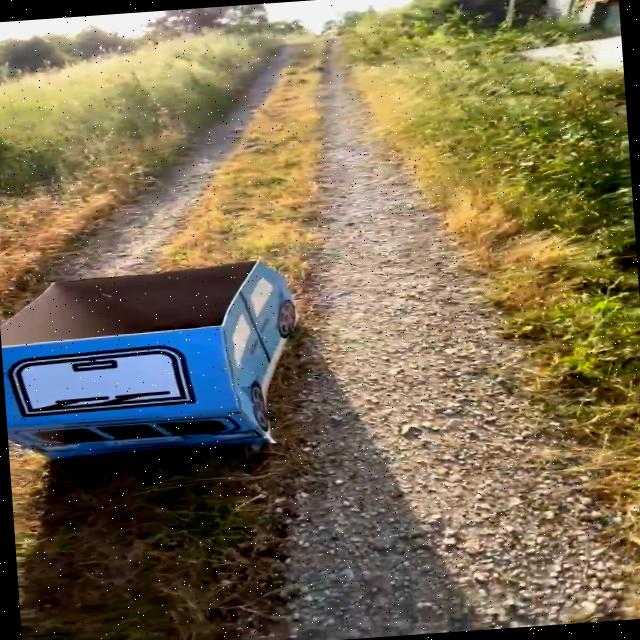blue_car: (0, 231, 379, 509)
